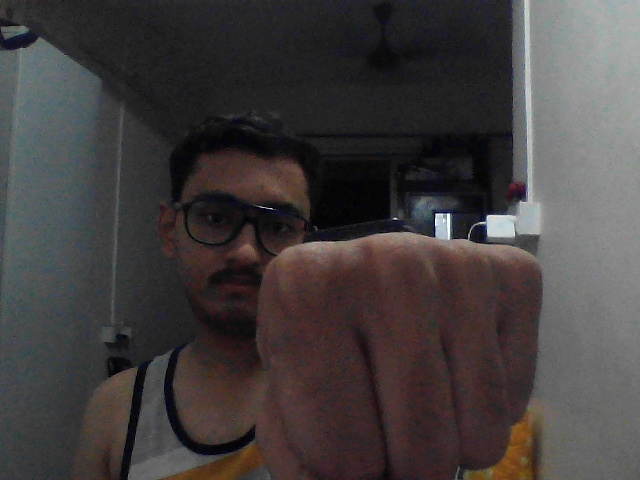Yes: (205, 212, 561, 480)
